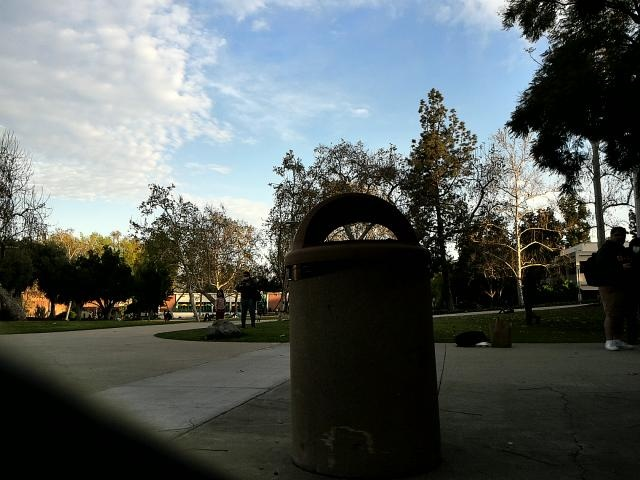trashcan: (282, 180, 448, 468)
